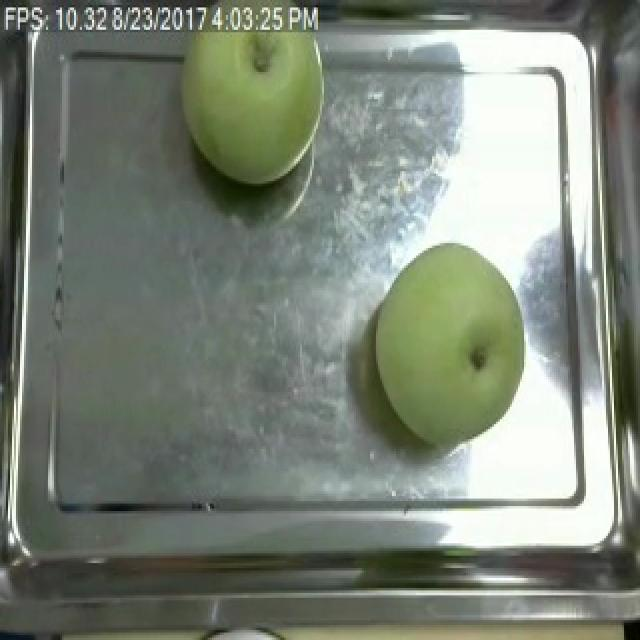50-_ripeness: (368, 238, 532, 450), (182, 5, 330, 192)
